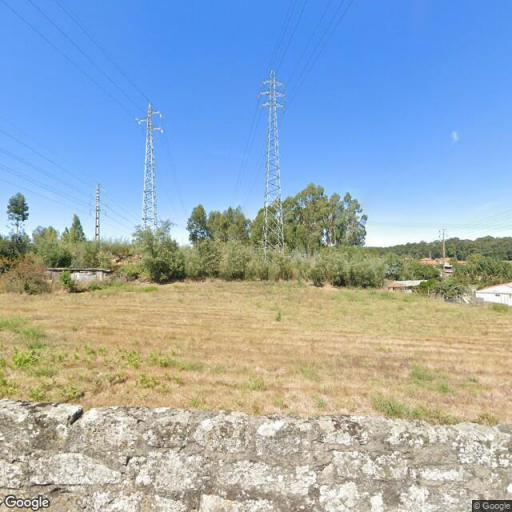mono_9: (88, 180, 108, 241), (438, 228, 449, 258)
ss_3: (258, 69, 288, 261)
ss_4: (136, 101, 163, 238)
